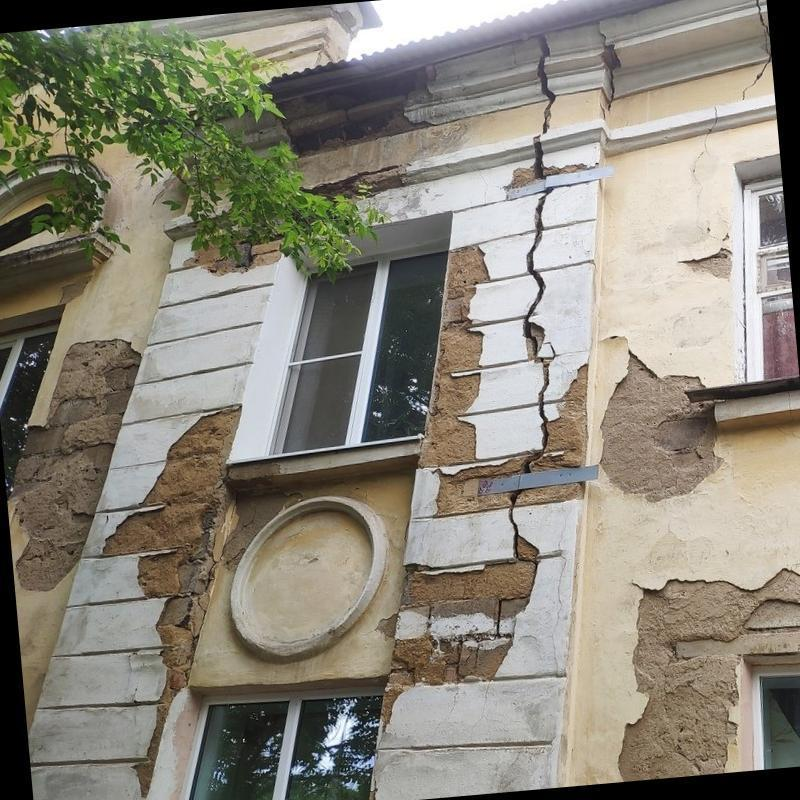pothole: (523, 188, 552, 357), (523, 356, 550, 474), (507, 491, 540, 567), (537, 32, 557, 134), (741, 52, 771, 102), (532, 133, 548, 182), (756, 0, 769, 37)
